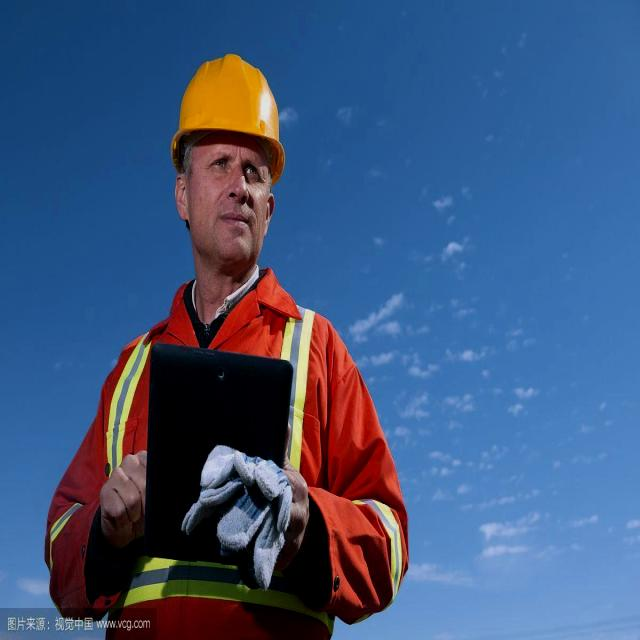face_nomask: (190, 137, 269, 270)
hand_glove: (184, 440, 292, 592)
hand_noglove: (95, 445, 163, 536)
head_helmet: (174, 53, 284, 180)
person: (86, 47, 395, 636)
vest: (117, 312, 406, 632)
